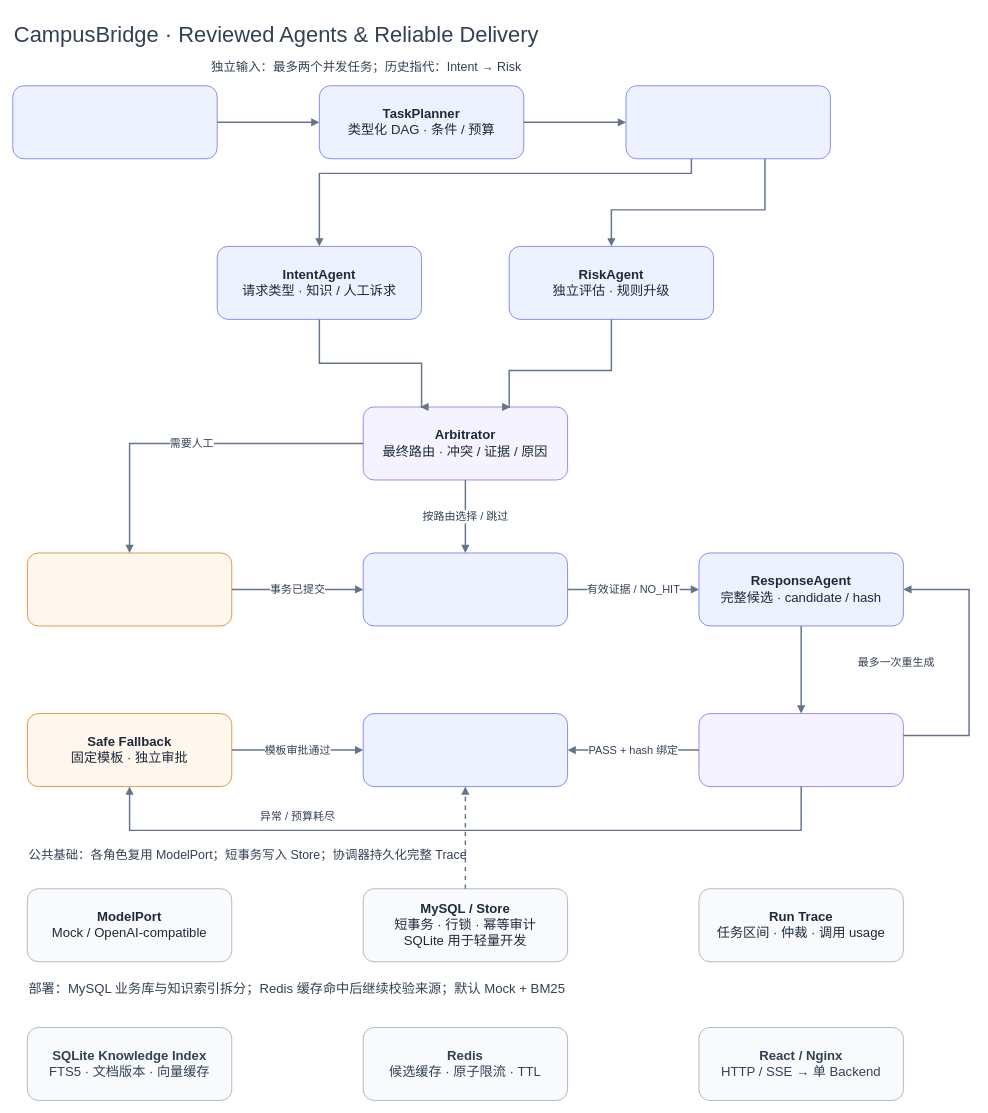
This 988x1113 diagram has some shape labels left out. Each missing label, with the box of its shape:
ContextAgent / KnowledgePort BM25 · Dense · RRF Hybrid 校园 / 版本 / 来源 Hash: (362, 552, 568, 626)
Delivery / SSE 已审核回复 · 原子提交后分块: (362, 713, 568, 787)
FastAPI / Authentication 学生请求 · 身份 / 幂等: (12, 85, 217, 159)
OutputReviewer 实际文本审核 · 身份绑定: (698, 713, 903, 787)
Risk / Human Checkpoint 先提交事件 / 工单: (27, 552, 232, 626)
TaskScheduler 依赖检查 · 唯一状态合并: (625, 85, 830, 159)
